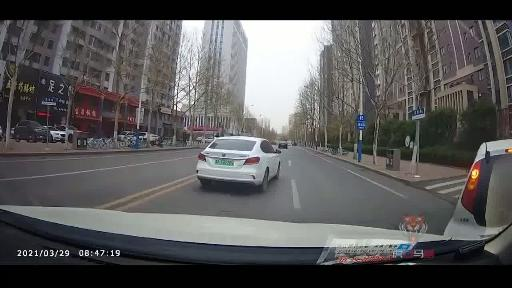CAR: (196, 137, 287, 186), (15, 118, 51, 147)
